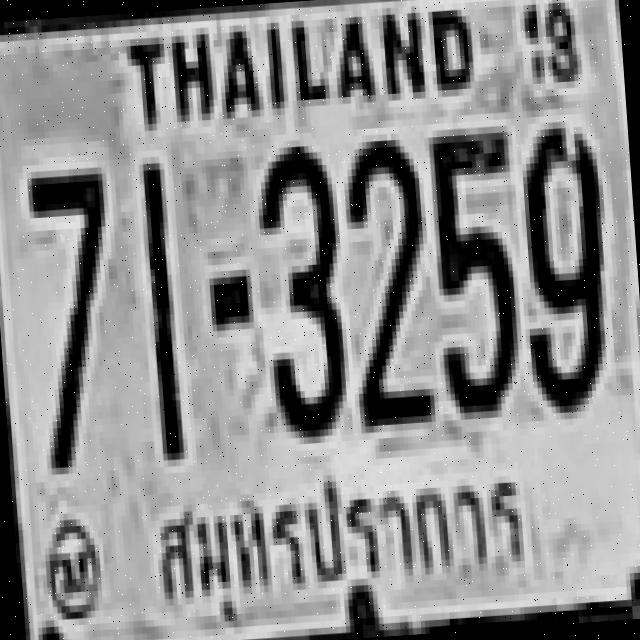1: (136, 159, 182, 457)
2: (341, 132, 432, 426)
3: (252, 138, 346, 432)
5: (423, 125, 522, 414)
7: (22, 166, 118, 468)
9: (512, 120, 611, 408)
SamutPrakan: (150, 461, 540, 632)
